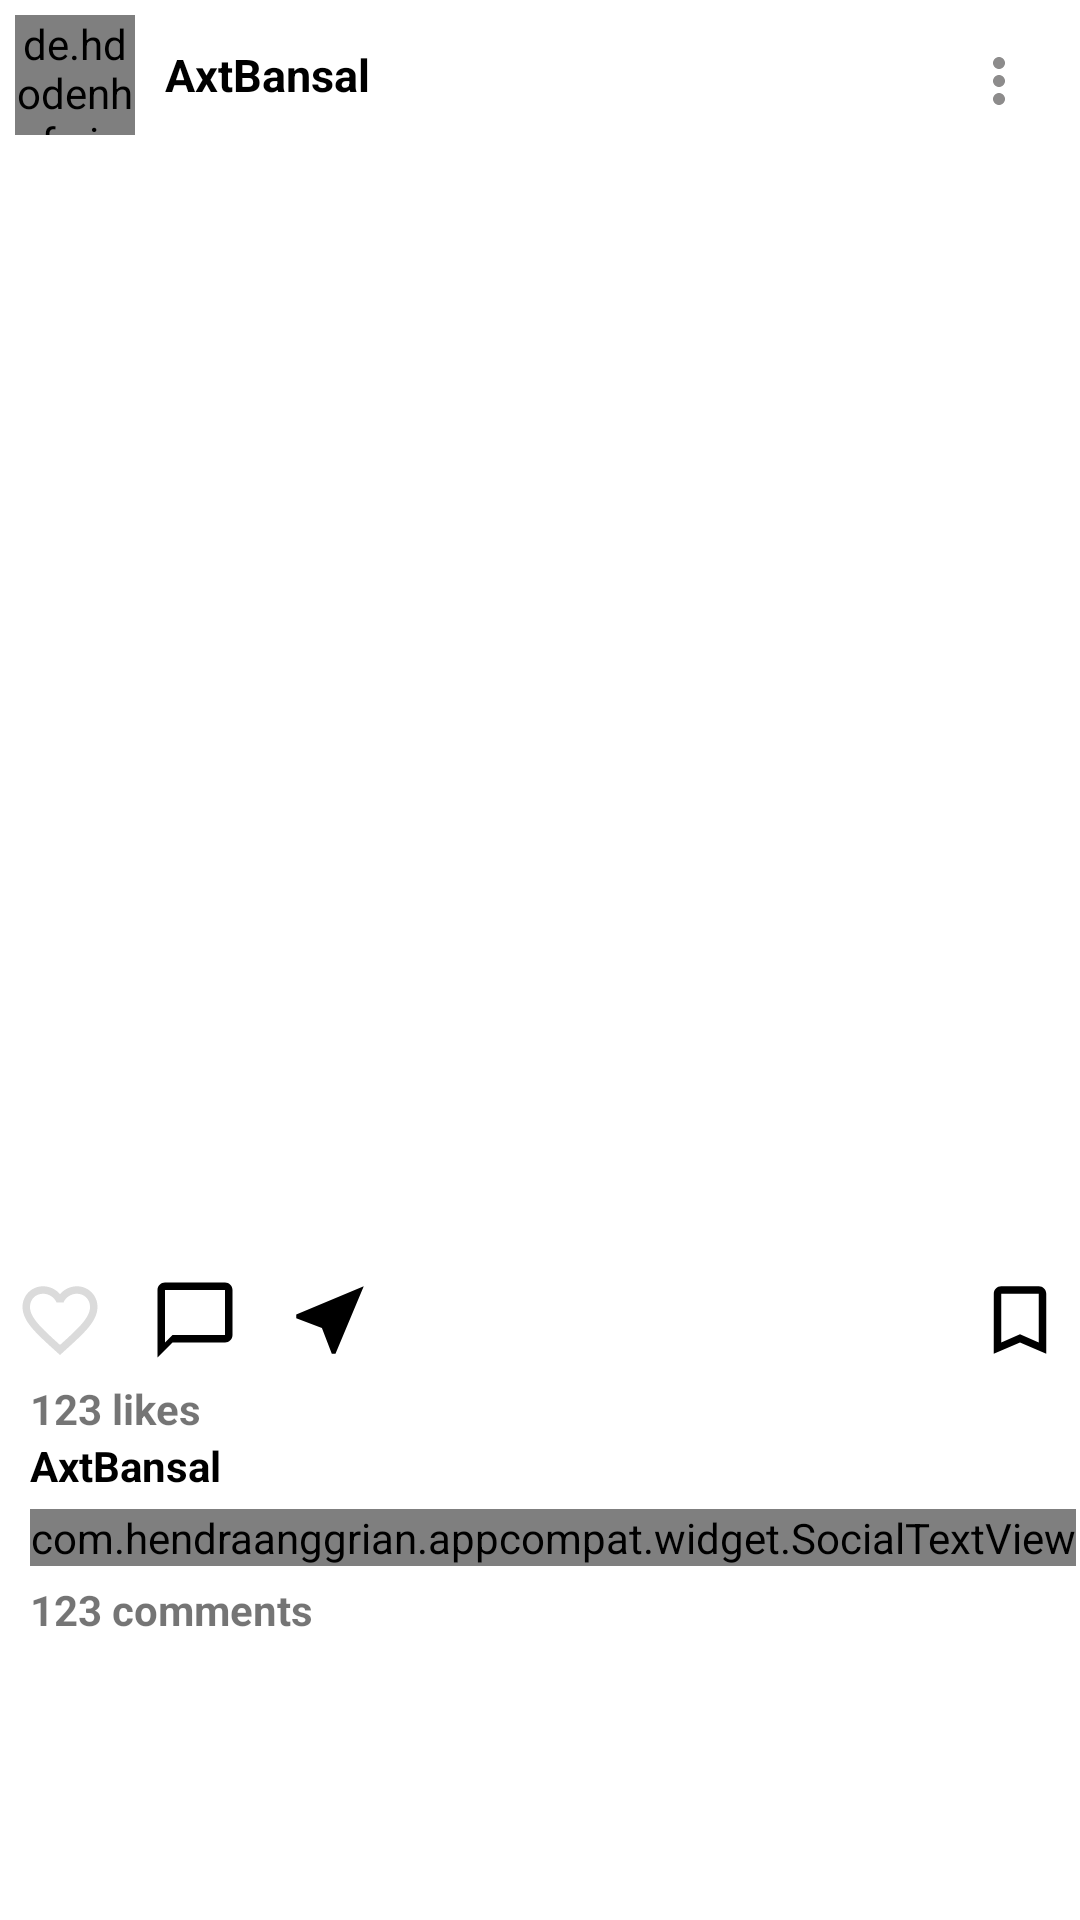

Locate icon controls on the screen. Image size 1080px×1920px, boxes as (x1, y1, x2, y2).
chat bubble: (157, 1282, 233, 1358)
favorite border: (23, 1286, 97, 1354)
more vert: (993, 57, 1005, 105)
near me: (296, 1286, 364, 1354)
turned in not: (993, 1286, 1047, 1354)
